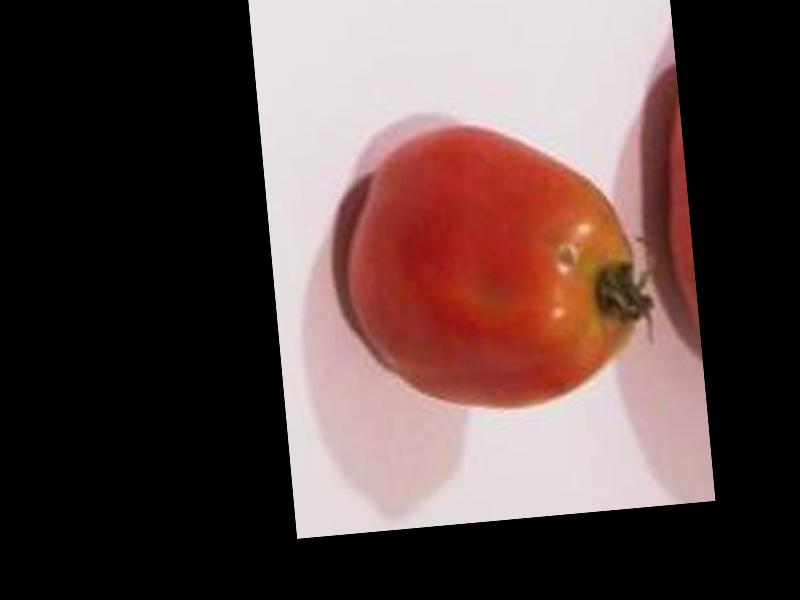Tomato: (341, 112, 649, 419)
